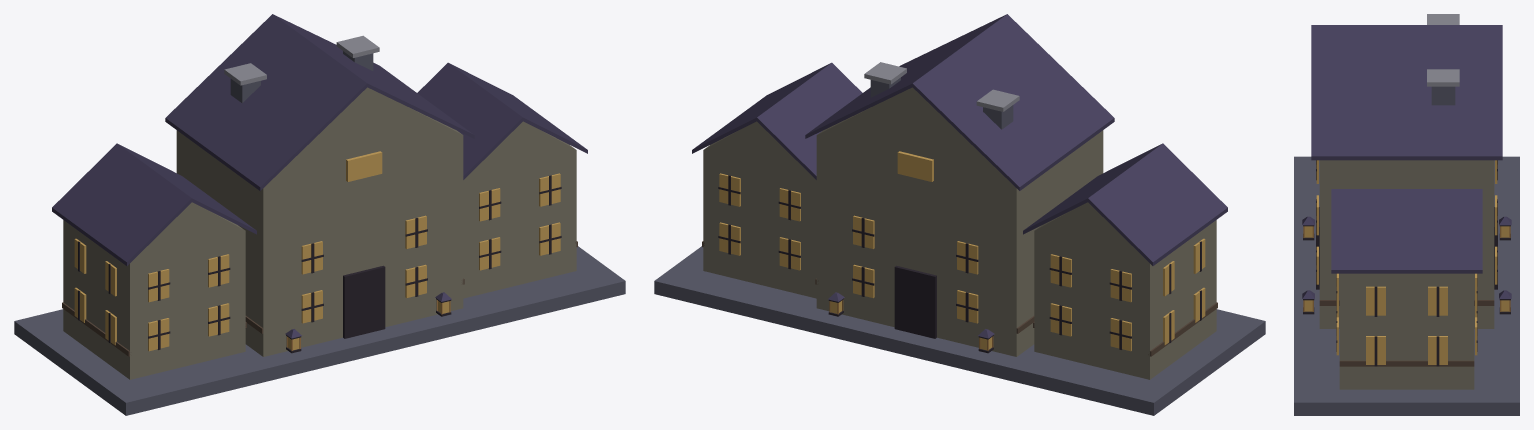
The model's file is HauntedWoods_ManorBackdrop_Showcase.glb.
3 renders of one model, left to right at view 1: azimuth 30°, elevation 25°; view 2: azimuth 150°, elevation 25°; view 3: azimuth 270°, elevation 25°, orthographic.
Visible parts, largest first — view 1: HauntedWoods_ManorBackdrop_Showcase; view 2: HauntedWoods_ManorBackdrop_Showcase; view 3: HauntedWoods_ManorBackdrop_Showcase.
Boxes of the visible parts, left/top/right/bottom form: HauntedWoods_ManorBackdrop_Showcase: left=14, top=14, right=625, bottom=415; HauntedWoods_ManorBackdrop_Showcase: left=654, top=14, right=1265, bottom=415; HauntedWoods_ManorBackdrop_Showcase: left=1294, top=14, right=1519, bottom=415.
Bounding box in the file's own units: 16 × 8.12 × 6.2.
